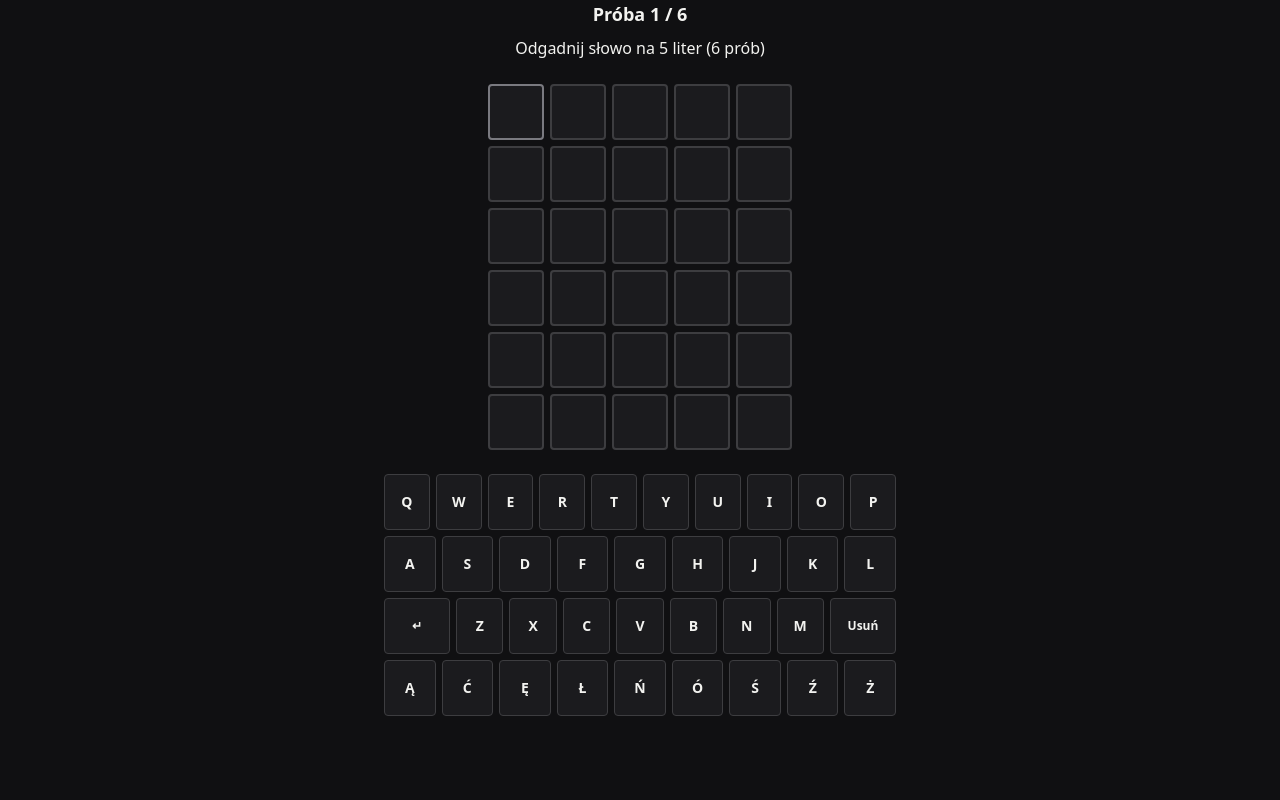
Test case: DailyGamePlay › shows result modal after live win, not on cached restore
This screenshot has width=1280, height=800.
Click the button "M" at (800, 626), box x1=776 y1=598 x2=824 y2=654
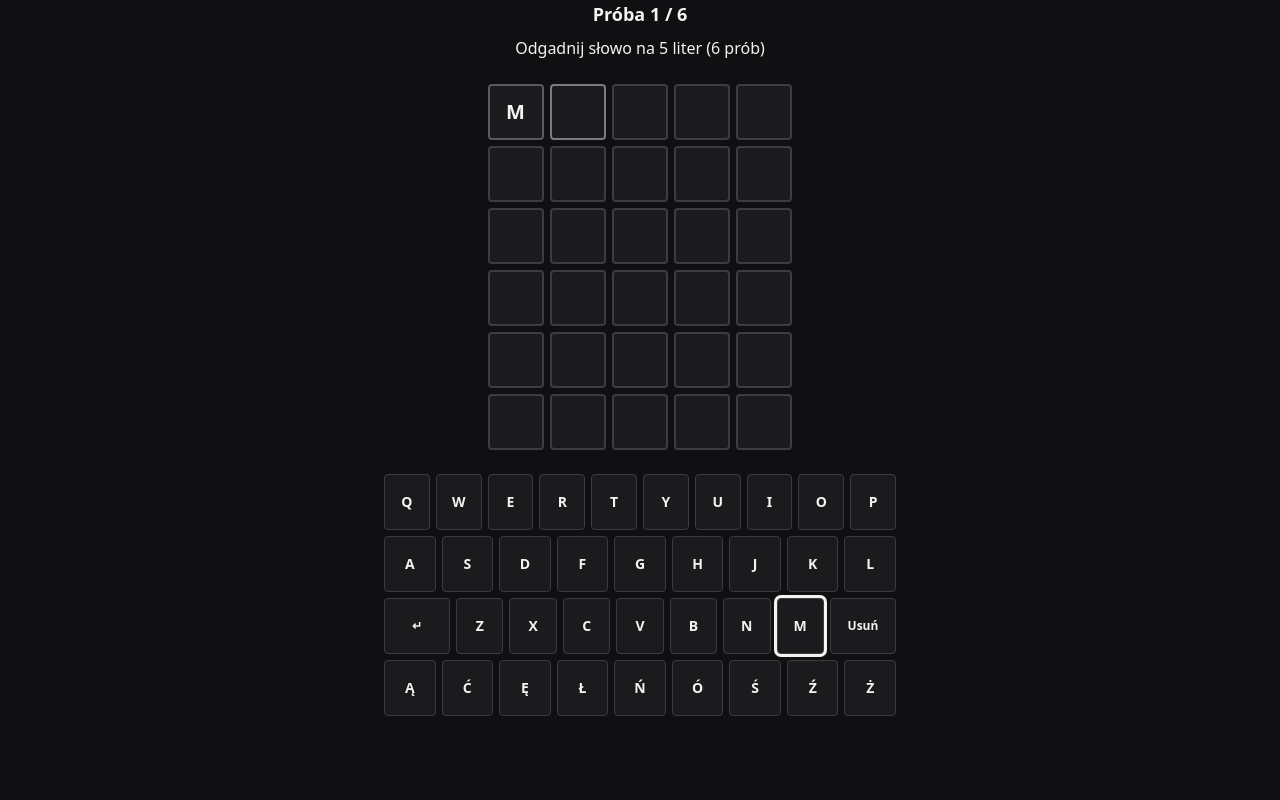
Click the button named "Wpisz literę A" at (410, 564), box x1=384 y1=536 x2=436 y2=592
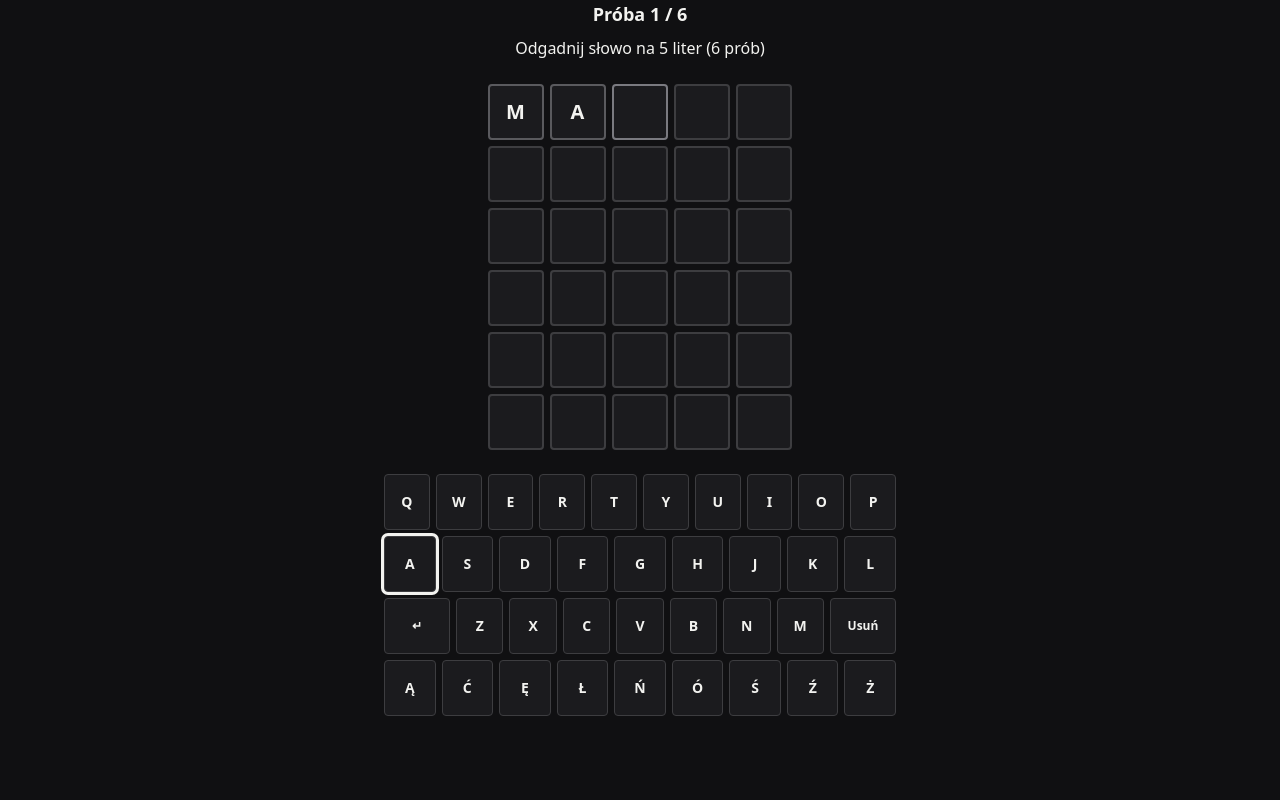
Click the button "K" at (813, 564), box x1=787 y1=536 x2=838 y2=592
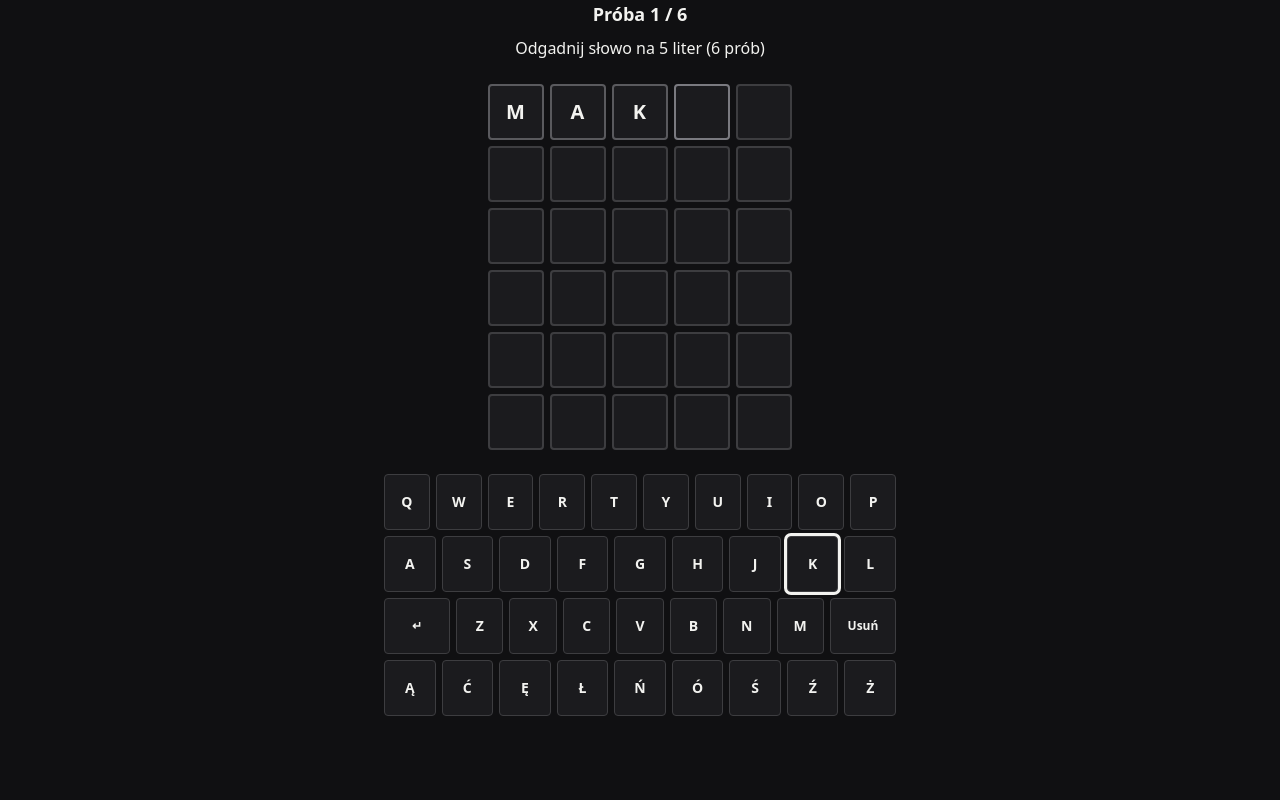
Click the button named "Wpisz literę S" at (467, 564), box x1=442 y1=536 x2=493 y2=592
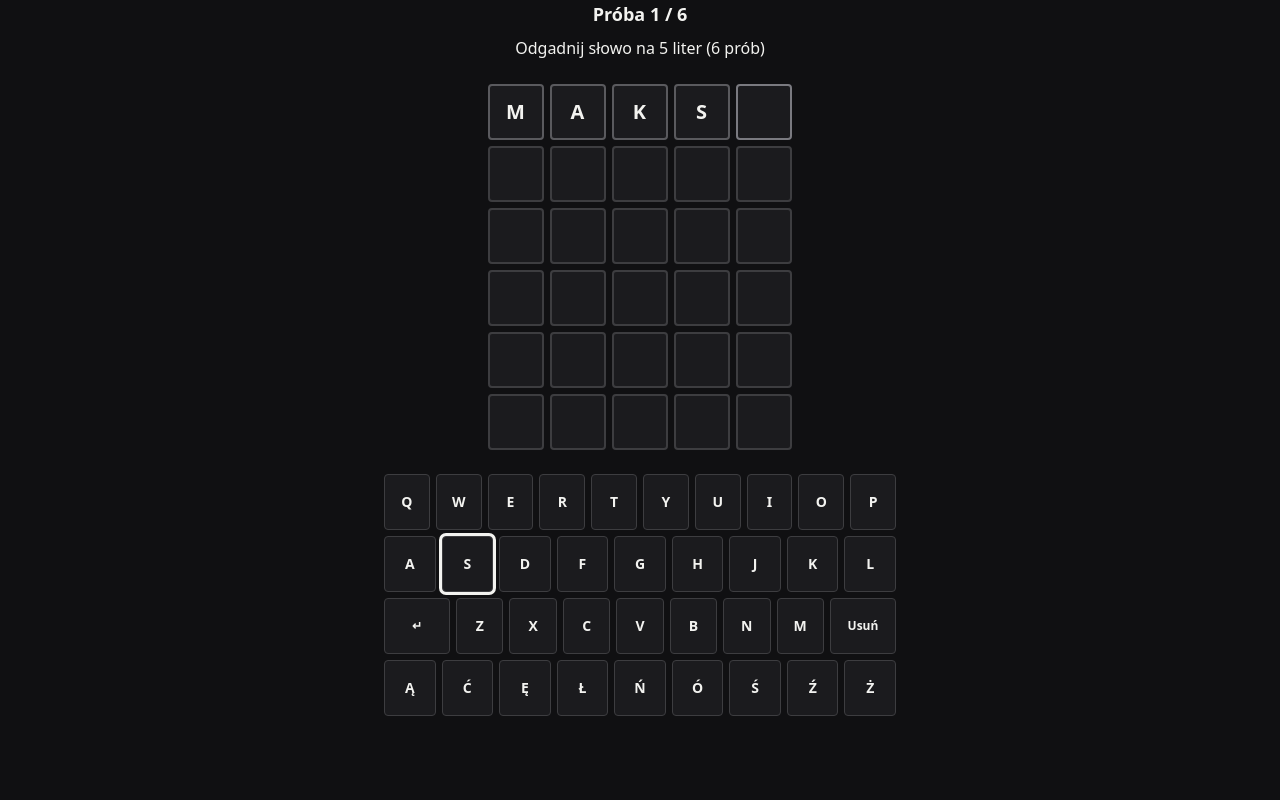
Click the button named "Wpisz literę A" at (410, 564), box x1=384 y1=536 x2=436 y2=592
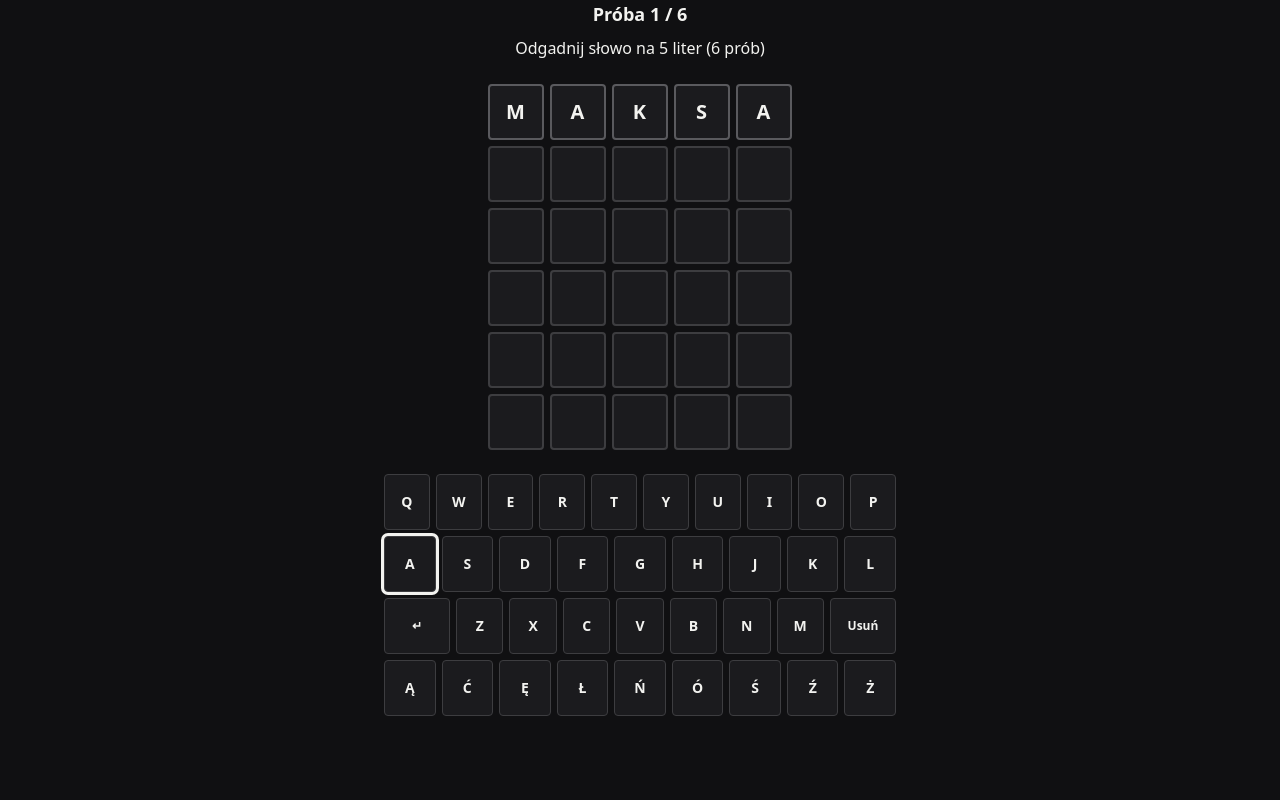
Click the button named "Zatwierdź" at (417, 626), box x1=384 y1=598 x2=450 y2=654
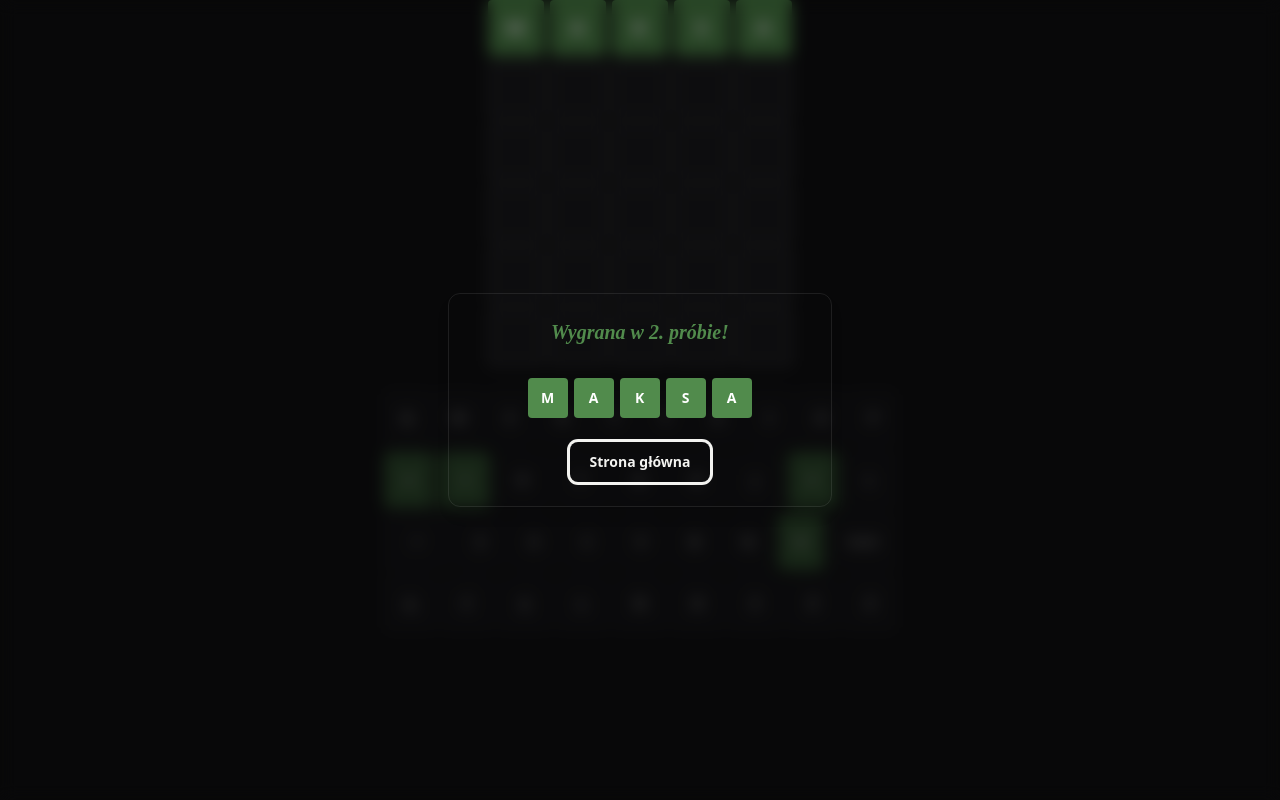
expect the dialog is shown: met, box x1=448 y1=293 x2=832 y2=507
expect the heading "Wygrana w 2. próbie!" is shown: met, box x1=551 y1=321 x2=729 y2=343
